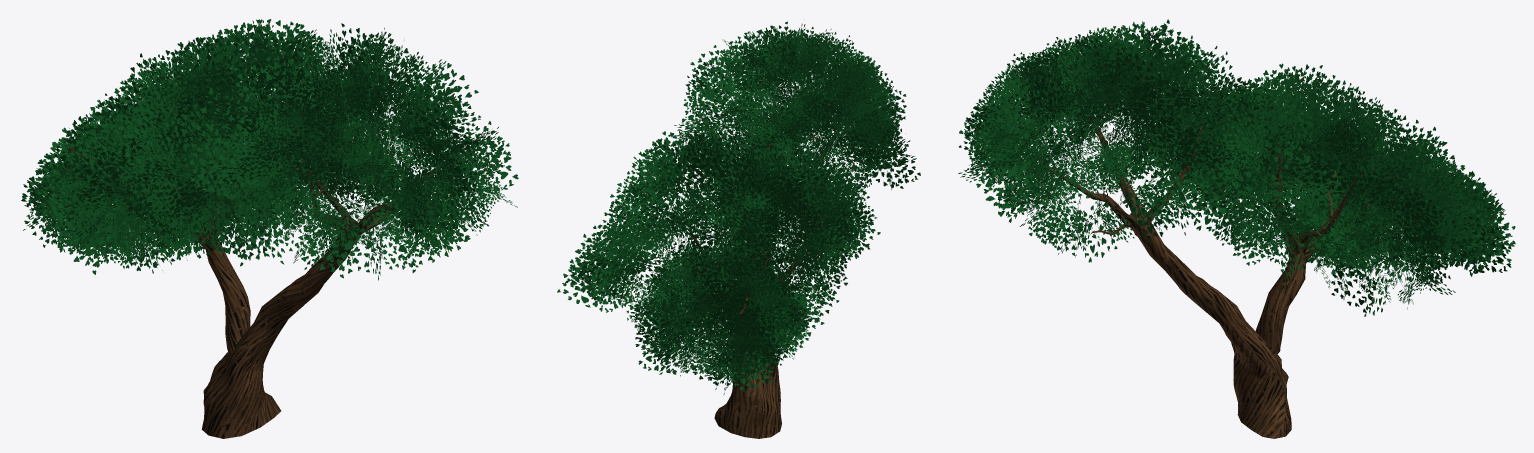
Rendered from Cay 2 - LOD 2.fbx.
3 views of the same model, side by side, from view 1: azimuth 30°, elevation 25°; view 2: azimuth 150°, elevation 25°; view 3: azimuth 270°, elevation 25° (orthographic). The views are drawn at different scales.
Visible parts, largest first — view 1: LOD2; view 2: LOD2; view 3: LOD2.
Part boxes in pixels (<box>): LOD2: <box>21,19,518,438</box>; LOD2: <box>557,21,920,438</box>; LOD2: <box>958,19,1515,438</box>.
Size of the model in its own units: 950 by 1285 by 1592.
